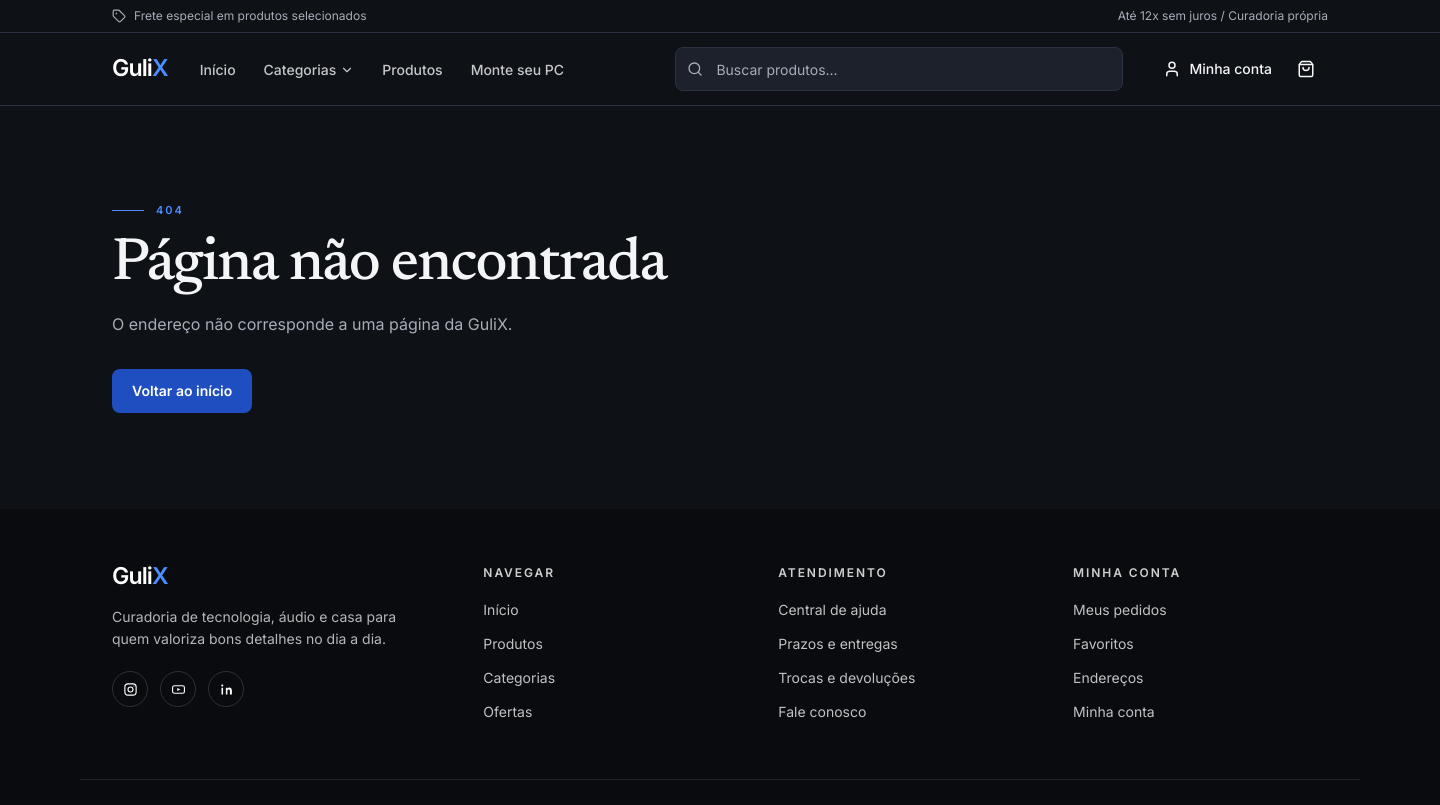
Test case: roteamento › apresenta a página 404 e volta para a home
Expected: the heading "Página não encontrada" is shown, [112,234,688,294]
Expected: the text "Frete especial em produtos selecionados" is shown, [112,8,366,24]
Step 1. Click the link "Voltar ao início" → [182, 390], box [112,368,252,412]
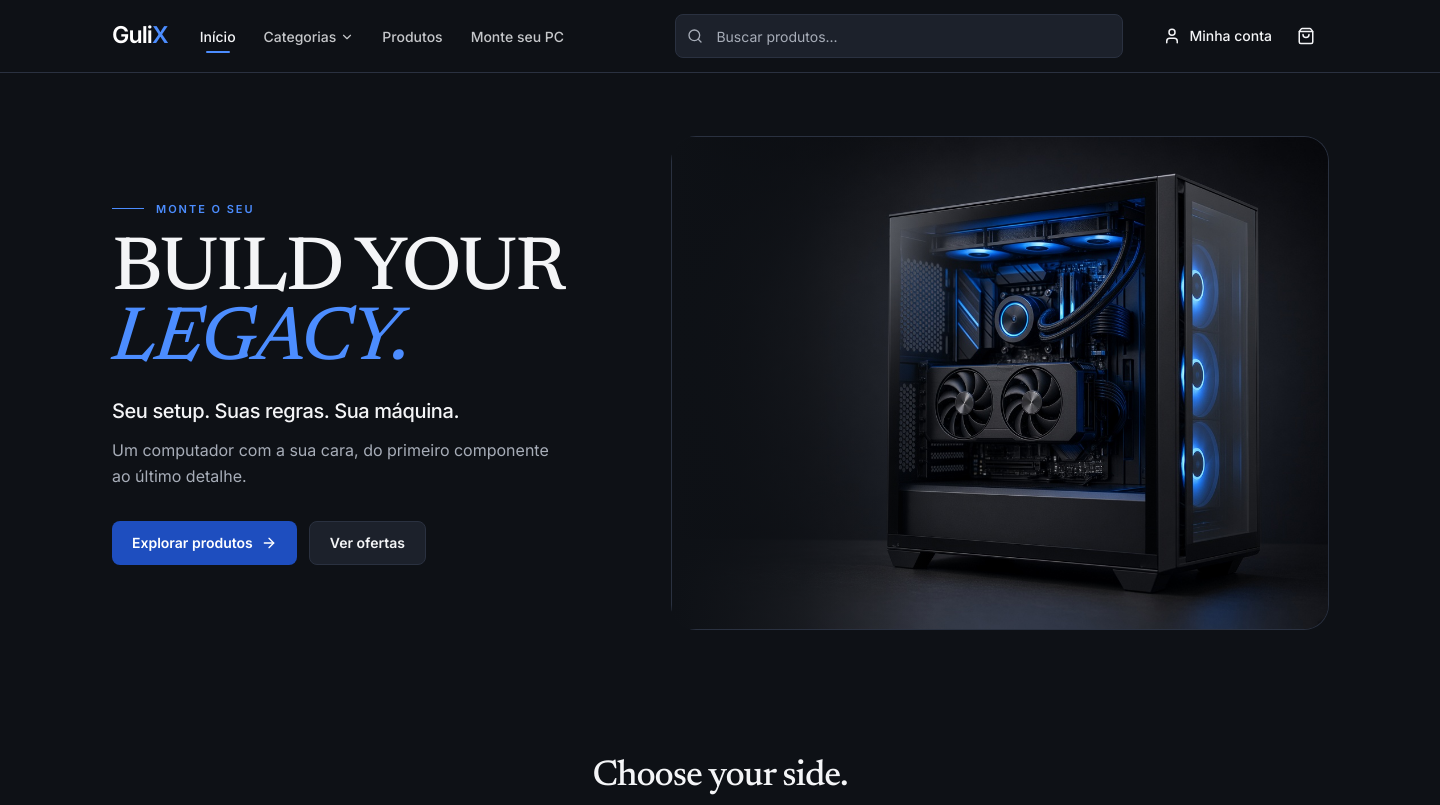
Expected: the heading "BUILD YOUR LEGACY." is shown, [112,233,564,379]
